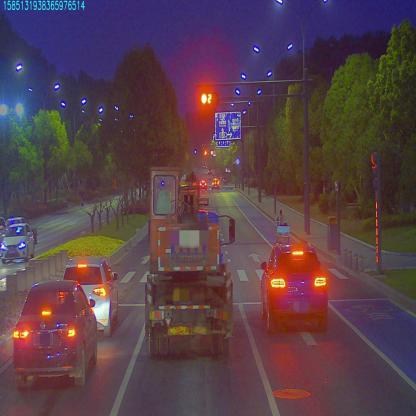traffic-light: (202, 87, 213, 104)
